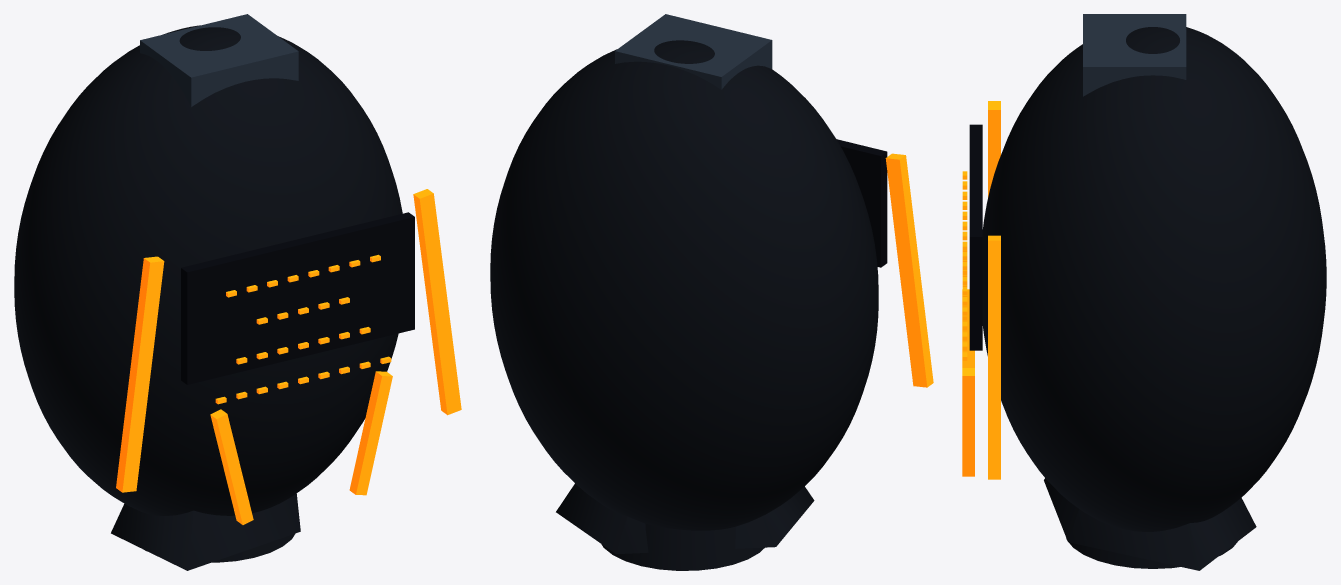
The model's file is robot-head.glb.
3 renders of one model, left to right at view 1: azimuth 30°, elevation 25°; view 2: azimuth 150°, elevation 25°; view 3: azimuth 270°, elevation 25°, orthographic.
Visible parts, largest first — view 1: HelmetShell, BlackVisor, AngularJaw, CrownPlate, LeftSideGlow, RightSideGlow, RightCheekGlow, LeftCheekGlow, NeckSocket; view 2: HelmetShell, CrownPlate, AngularJaw, LeftSideGlow, NeckSocket, BlackVisor; view 3: HelmetShell, AngularJaw, CrownPlate, RightSideGlow, BlackVisor, RightCheekGlow, NeckSocket, LeftSideGlow, LeftCheekGlow.
Part boxes in pixels (x1,y1,x2,y2): HelmetShell: [14, 25, 402, 515]; BlackVisor: [181, 212, 414, 384]; AngularJaw: [111, 493, 300, 570]; CrownPlate: [140, 14, 298, 107]; LeftSideGlow: [116, 256, 164, 492]; RightSideGlow: [413, 189, 461, 415]; RightCheekGlow: [349, 371, 392, 495]; LeftCheekGlow: [210, 409, 253, 524]; NeckSocket: [145, 533, 295, 562]; HelmetShell: [490, 40, 878, 530]; CrownPlate: [615, 14, 772, 89]; AngularJaw: [556, 483, 814, 554]; LeftSideGlow: [885, 153, 933, 387]; NeckSocket: [601, 523, 764, 570]; BlackVisor: [836, 139, 887, 267]; HelmetShell: [982, 27, 1326, 531]; AngularJaw: [1044, 478, 1256, 570]; CrownPlate: [1083, 14, 1186, 96]; RightSideGlow: [988, 235, 1000, 479]; BlackVisor: [969, 124, 982, 350]; RightCheekGlow: [962, 368, 974, 476]; NeckSocket: [1066, 538, 1237, 568]; LeftSideGlow: [988, 101, 1000, 197]; LeftCheekGlow: [962, 289, 974, 367].
Size of the model in its own units: 1.12 by 1.48 by 0.9887.
